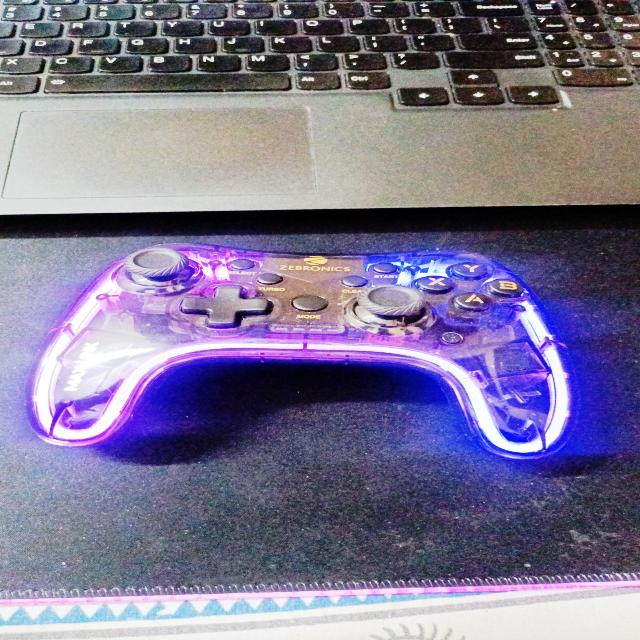gamepad: (24, 242, 581, 461)
